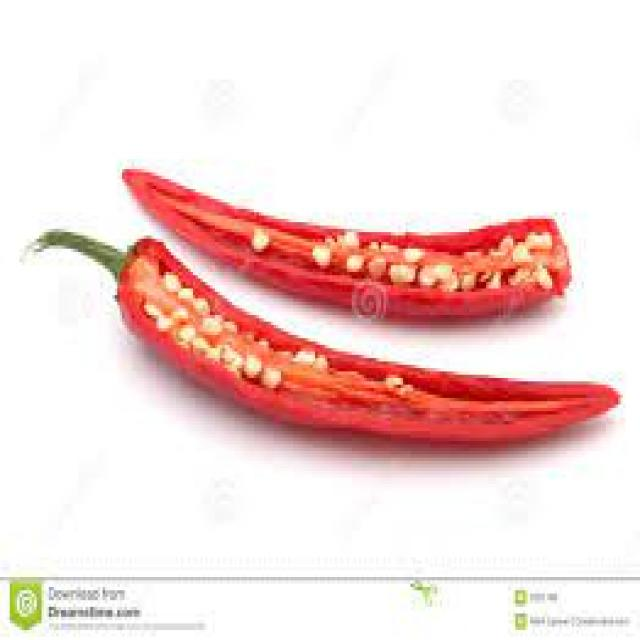red chili: (37, 232, 623, 443), (125, 171, 572, 318)
